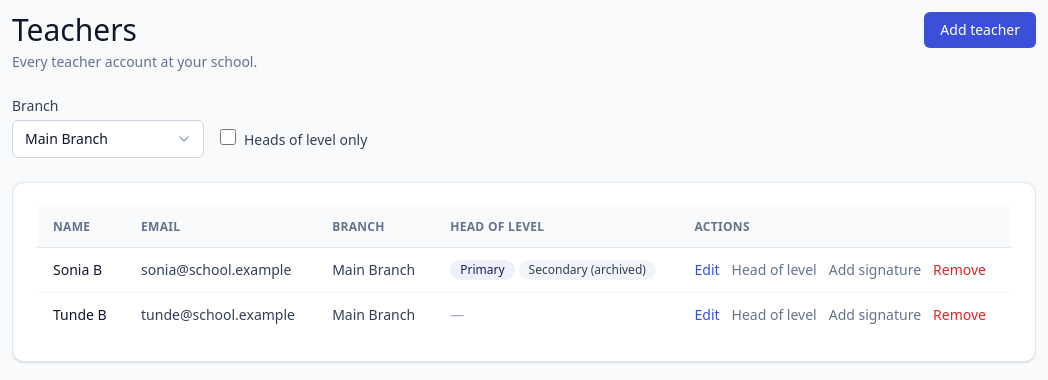
TeachersPage › Head of level › shows each head's levels in a column and can narrow the list to heads only
Expected: the text "sonia@school.example" is shown, [125, 248, 316, 292]
Expected: the text "Primary" is shown, [450, 260, 515, 280]
Click the checkbox labelled "Heads of level only" at (228, 137), box [220, 129, 236, 145]
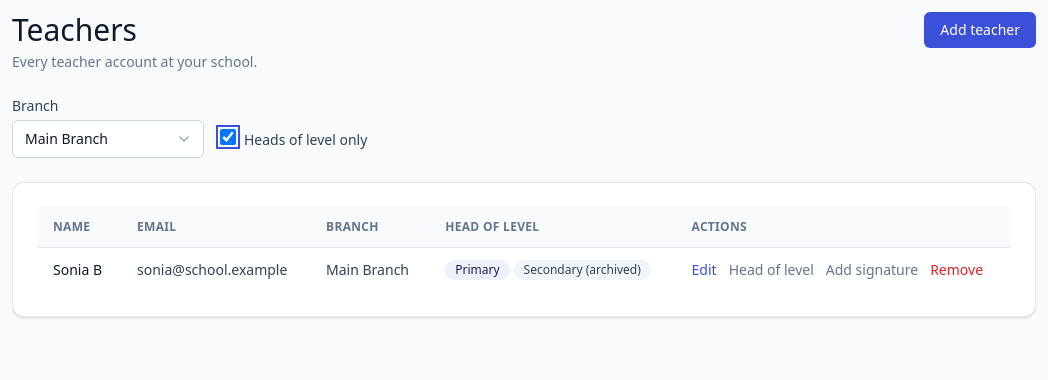
Expected: the text "sonia@school.example" is shown, [121, 248, 310, 292]
Now the text "tunde@school.example" is gone
